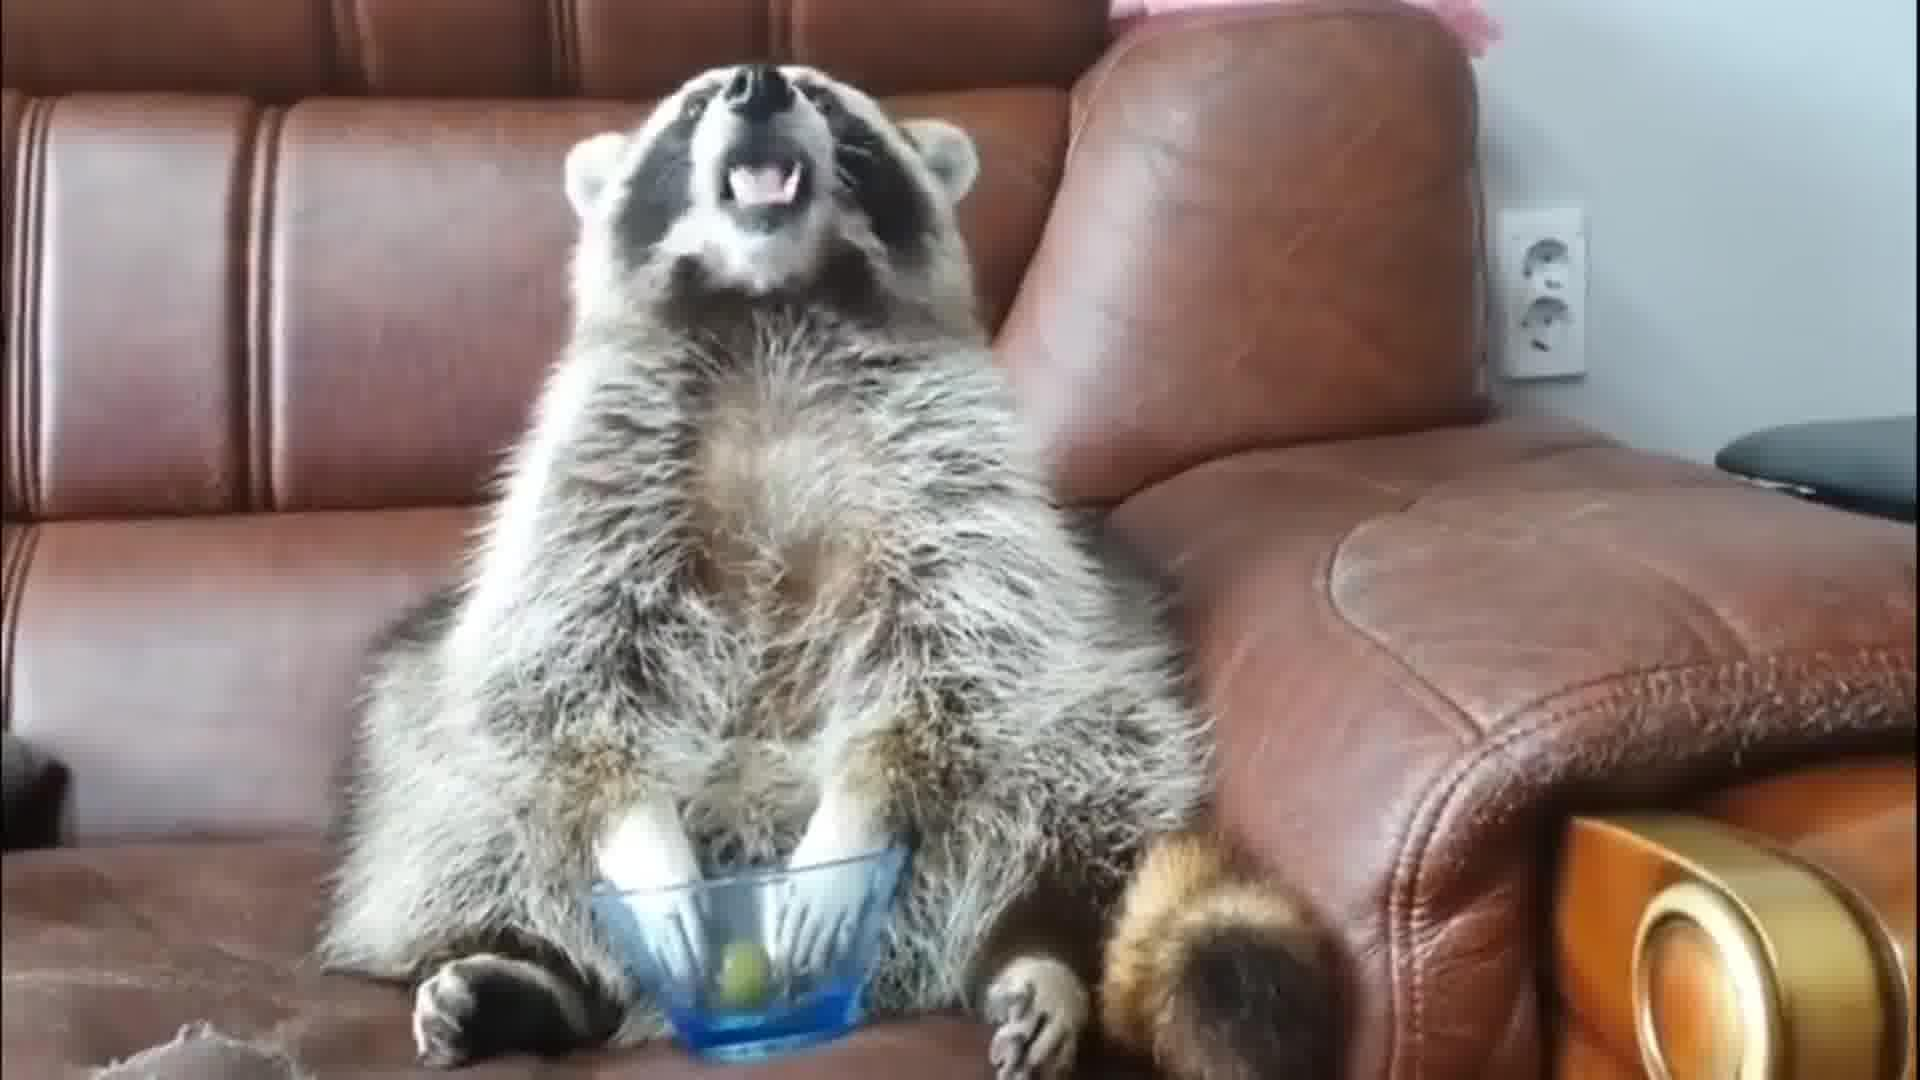raccoon: (316, 54, 1364, 1080)
